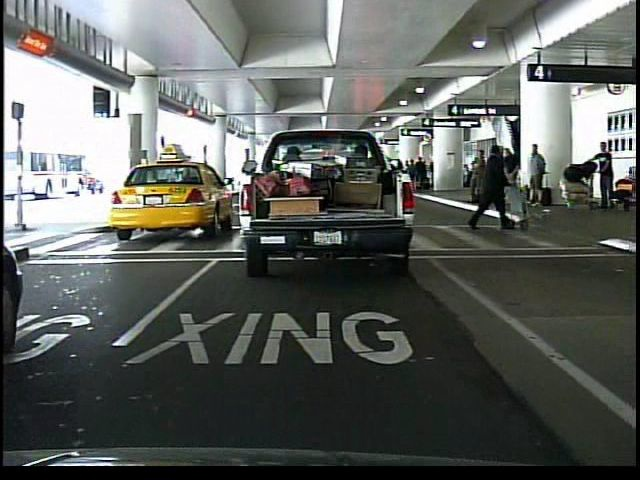person: (473, 144, 515, 236), (593, 139, 617, 213), (484, 146, 506, 222)
